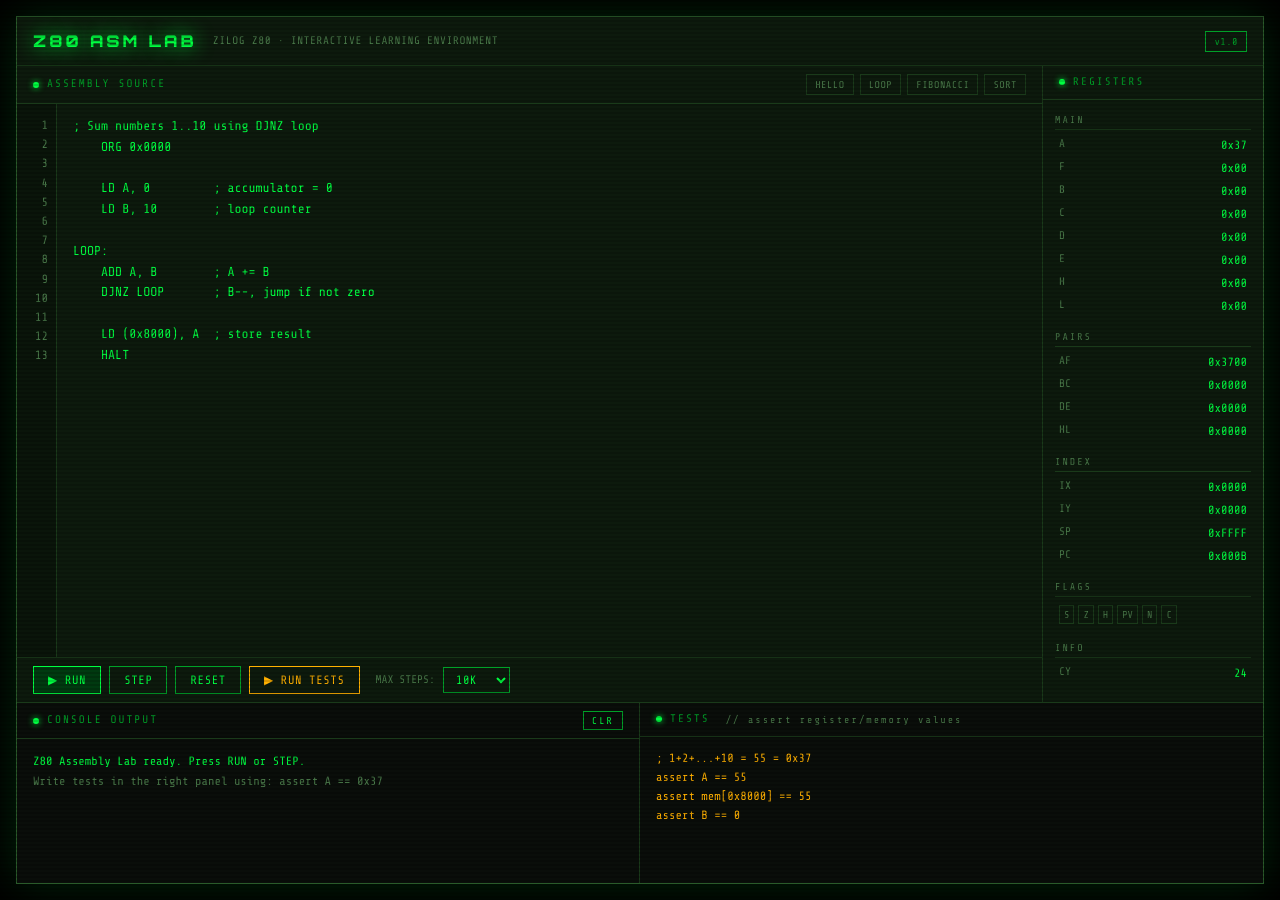
Scenario: App - RUN button › clicking RUN shows HALTED indicator in header
What coordinates should you click on to do the following:
click the button "▶ RUN"
I would click on:
 (67, 680)
Its box is [33,666,101,694].
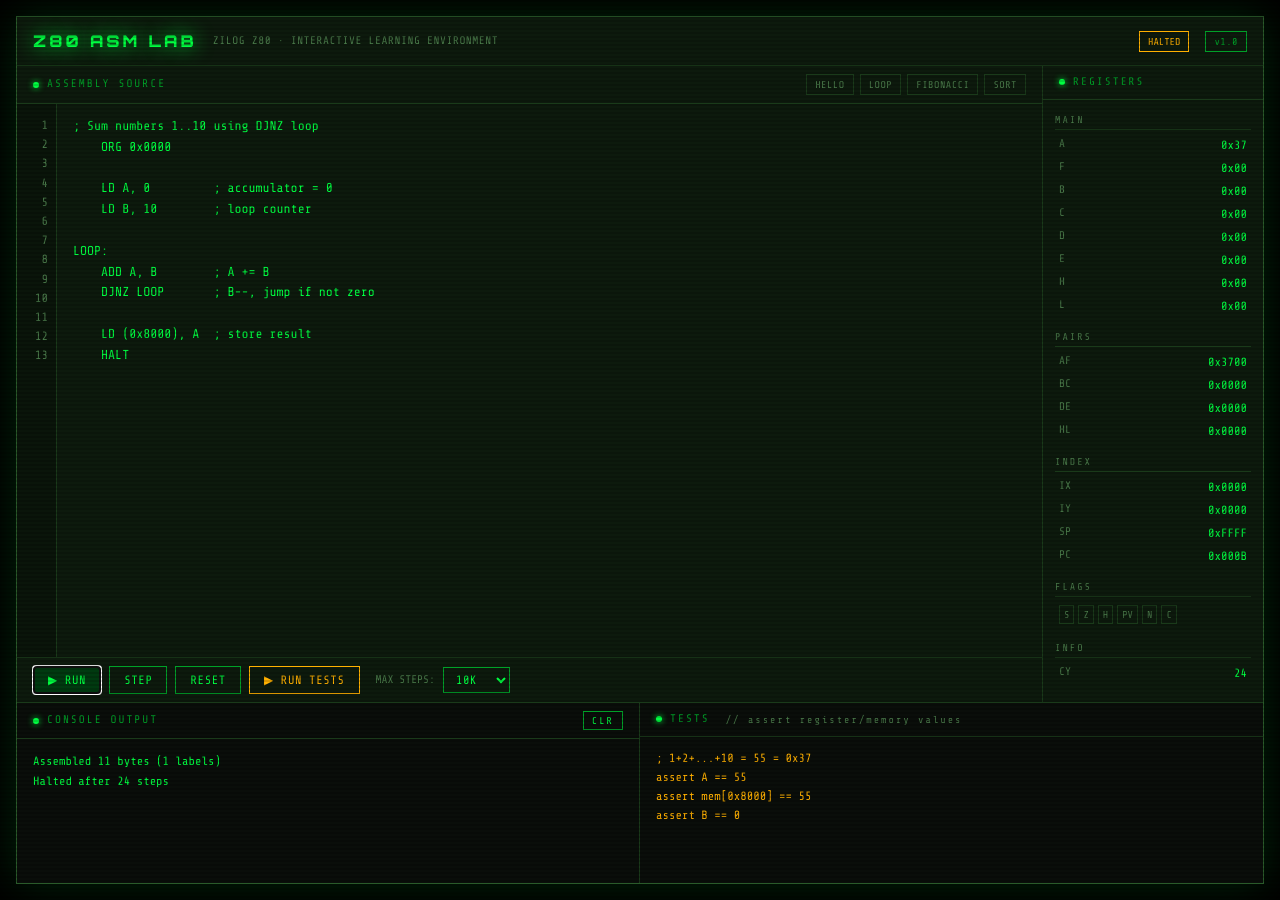
Now the text "HALTED" is shown, box [1139,30,1189,52]
